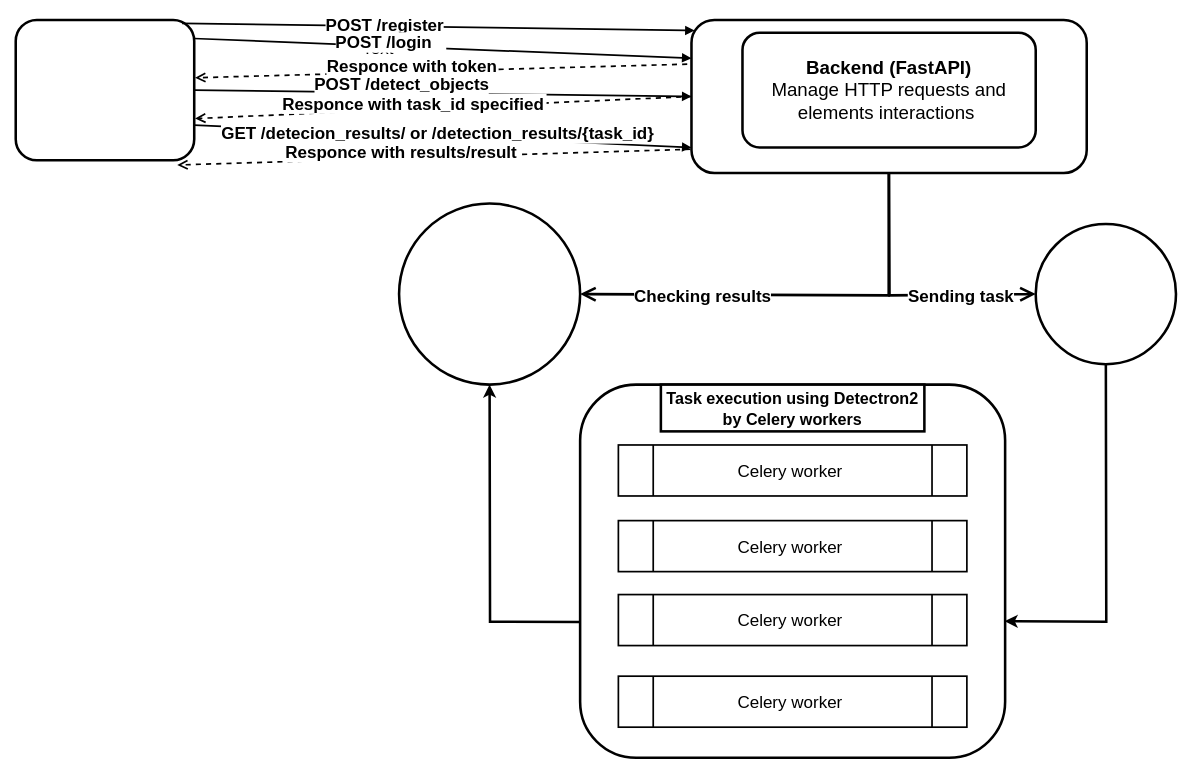
Image size: 1192x774. Some labels were removed from this diagram. Here are the shapes that lost their labels. From the top down, the centre of each, then its label:
At pixel 104 89: "Client".
At pixel 489 293: "PostgreSQL DB".
At pixel 1105 293: "Celery task broker (Redis)".
